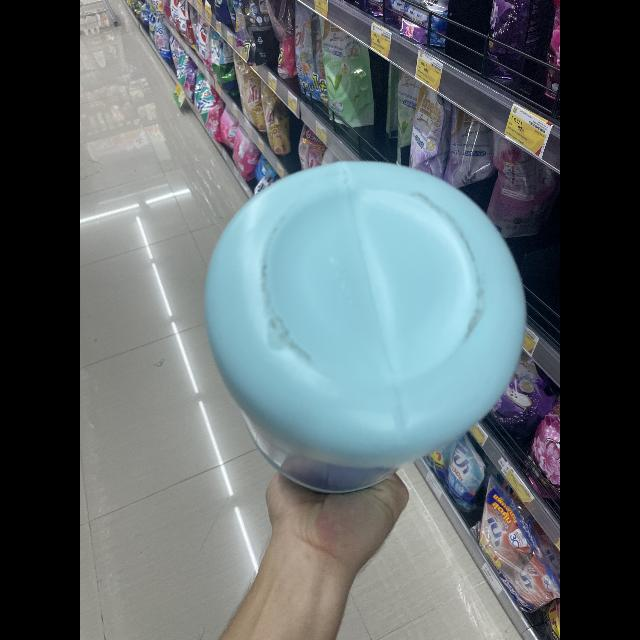chemical_plastic_bottle: (194, 154, 530, 502)
